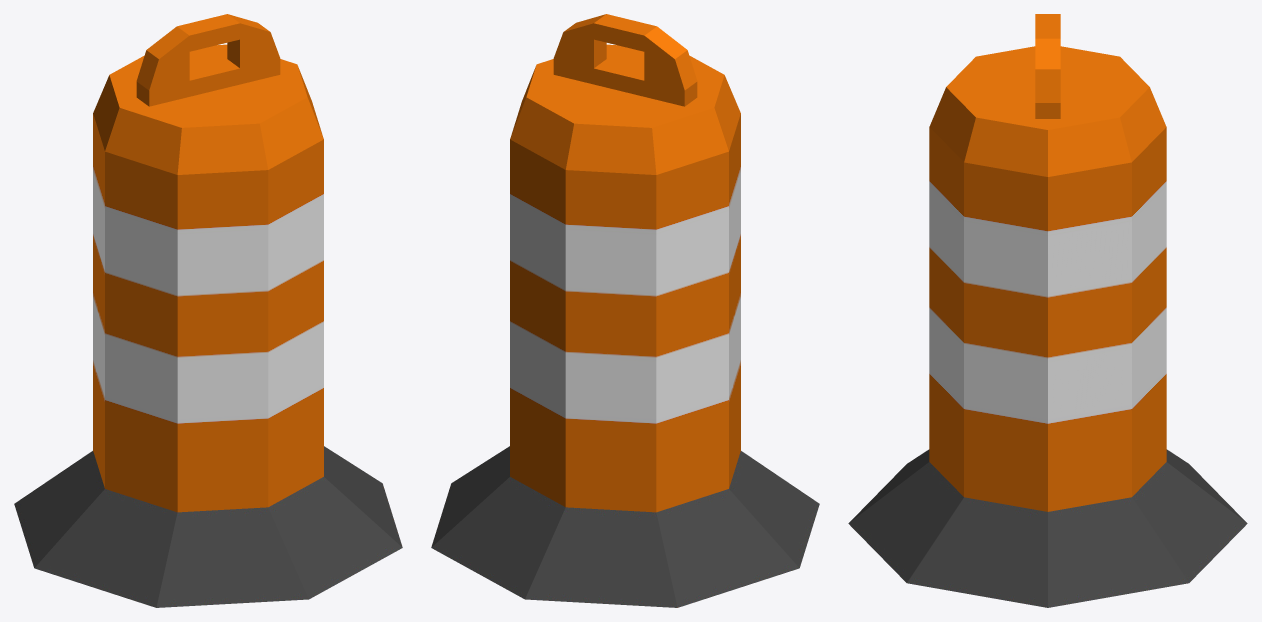
File: Barrel.fbx
The picture shows the model from 3 angles, left to right: view 1: azimuth 30°, elevation 25°; view 2: azimuth 150°, elevation 25°; view 3: azimuth 270°, elevation 25°; orthographic projection.
Visible parts, largest first — view 1: Cube; view 2: Cube; view 3: Cube.
Boxes of the visible parts, x1,y1,x2,y2 form: Cube: [14, 14, 402, 607]; Cube: [431, 14, 819, 607]; Cube: [848, 14, 1247, 607].
Size of the model in its own units: 337 by 463 by 337.
